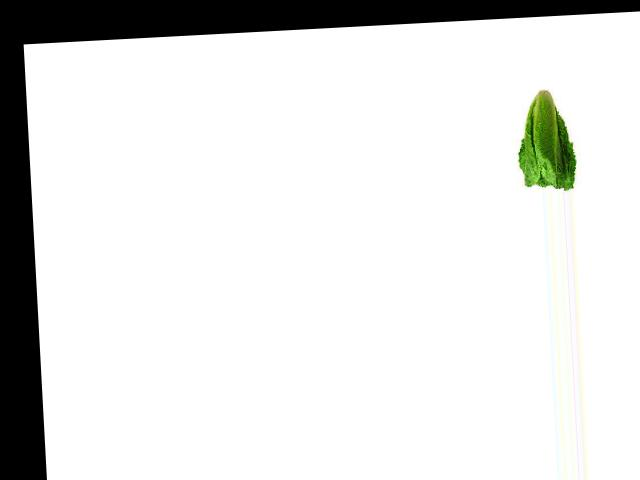lettuce: (511, 86, 582, 193)
